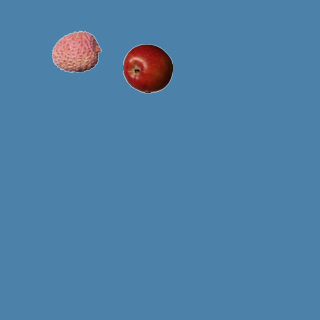Apple Braeburn: (122, 43, 172, 93)
Lychee: (51, 26, 101, 76)
